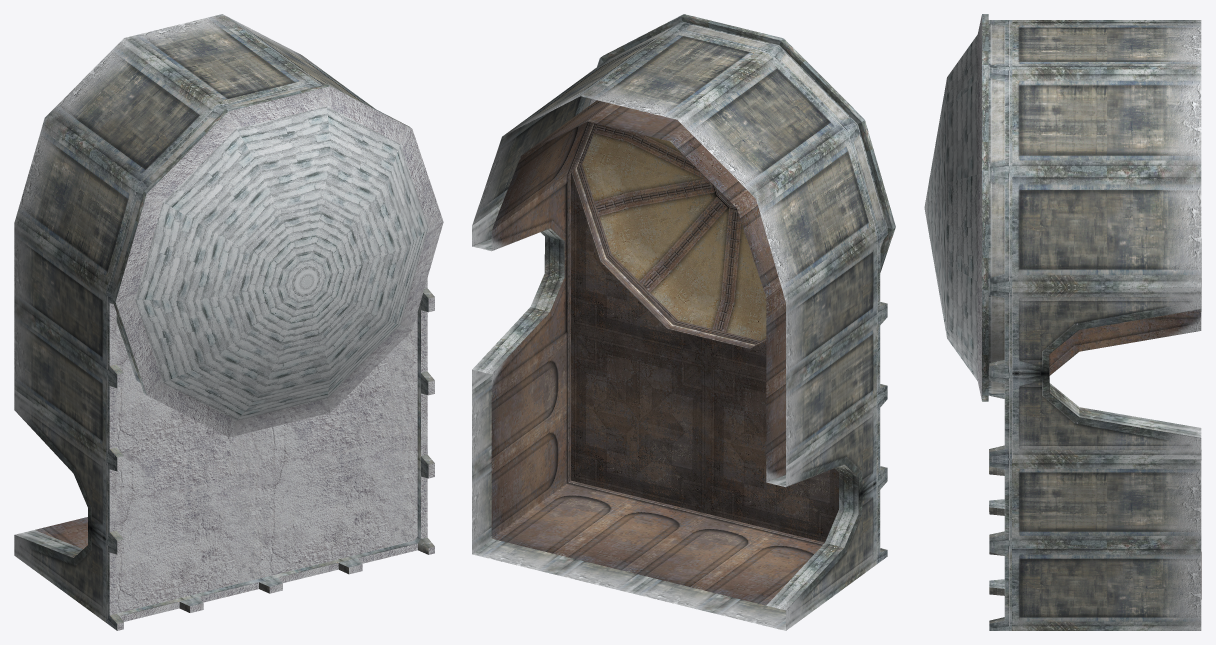
File: rv_mod_col_overlook.obj
3 views of the same model, side by side, from view 1: azimuth 30°, elevation 25°; view 2: azimuth 150°, elevation 25°; view 3: azimuth 270°, elevation 25° (orthographic). The views are drawn at different scales.
Parts seen in each view (by area): view 1: rv_mod_col_overlook; view 2: rv_mod_col_overlook; view 3: rv_mod_col_overlook.
Part boxes in pixels (box(x1,y1,x2,y2)): rv_mod_col_overlook: box(14, 14, 443, 630); rv_mod_col_overlook: box(472, 14, 895, 630); rv_mod_col_overlook: box(924, 14, 1201, 630).
Bounding box in the file's own units: 16.51 × 23.85 × 11.71.
Materials: 8 (8 with a texture image).
